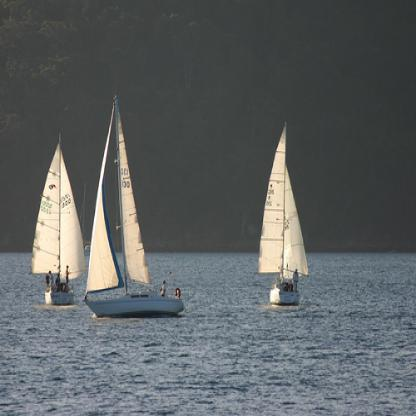boat: (82, 94, 185, 317), (257, 122, 309, 306), (31, 131, 85, 307)
